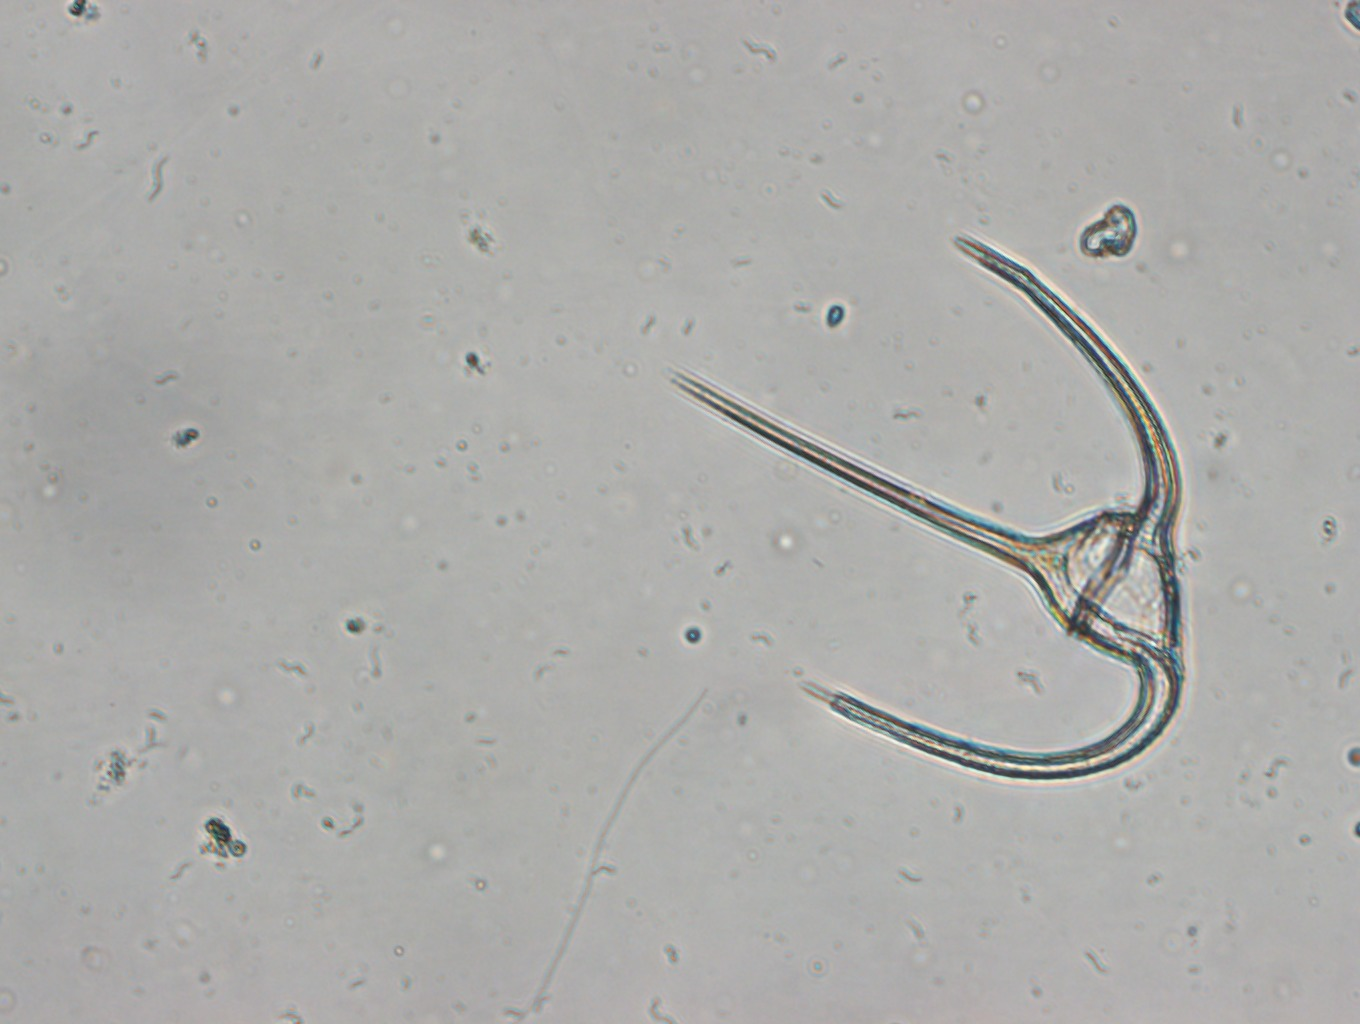ceratium trichoceros: (664, 207, 1201, 798)
